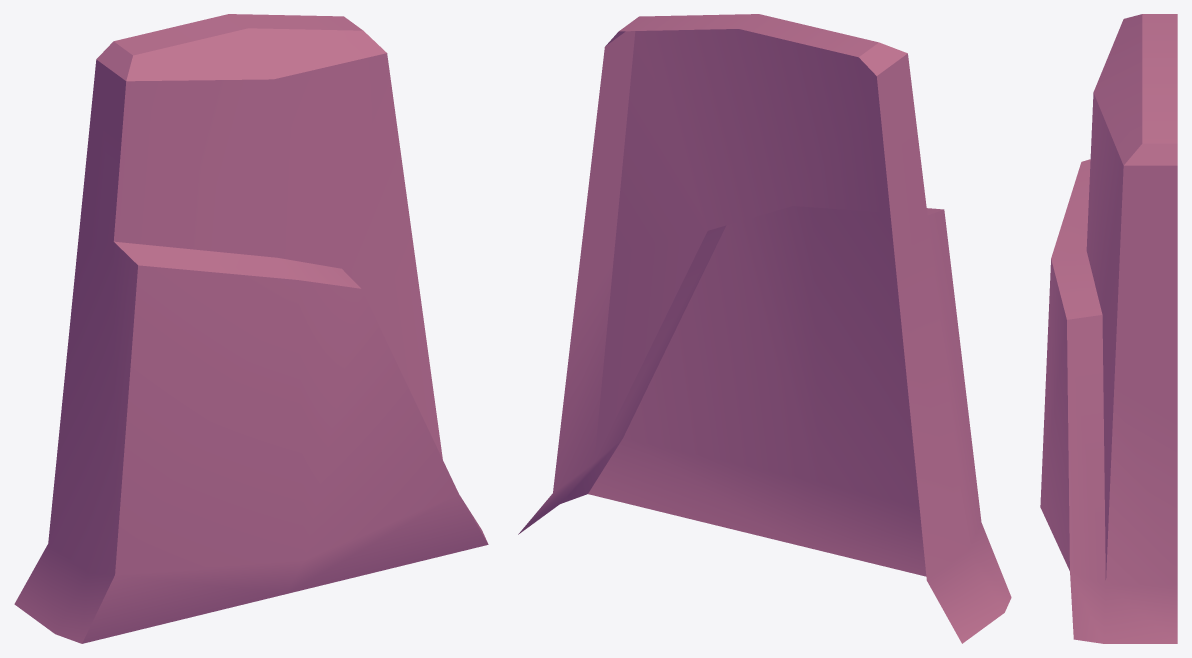
File: Module_Rock_Mesh_03_v01.fbx
3 renders of one model, left to right at view 1: azimuth 30°, elevation 25°; view 2: azimuth 150°, elevation 25°; view 3: azimuth 270°, elevation 25°, orthographic. The views are drawn at different scales.
Parts seen in each view (by area): view 1: Module_Rock_Mesh_03_v01; view 2: Module_Rock_Mesh_03_v01; view 3: Module_Rock_Mesh_03_v01.
Boxes of the visible parts, <box> form: Module_Rock_Mesh_03_v01: <box>14,14,488,643</box>; Module_Rock_Mesh_03_v01: <box>518,14,1011,643</box>; Module_Rock_Mesh_03_v01: <box>1040,14,1177,643</box>.
Size of the model in its own units: 204 by 246 by 62.97.
